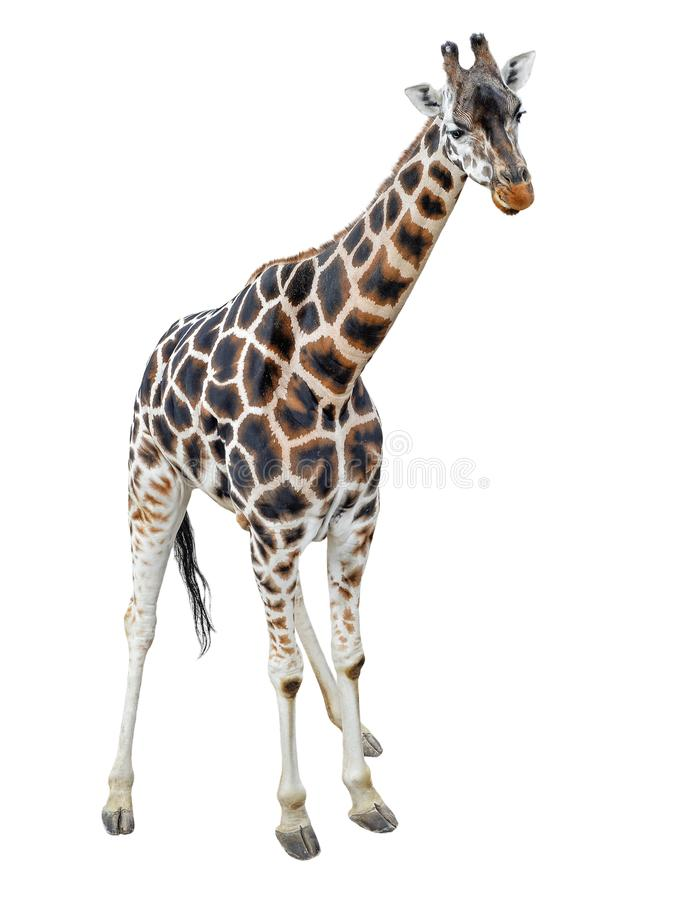Jirafa: (76, 12, 552, 882)
